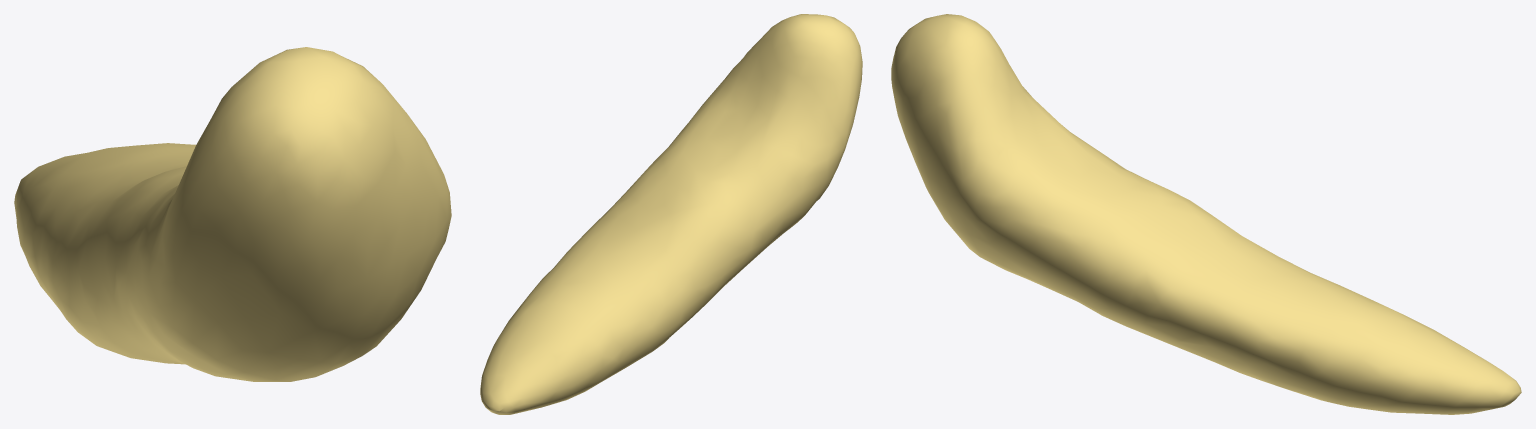
The model's file is fma73476_mm3565.glb.
The picture shows the model from 3 angles, left to right: view 1: azimuth 30°, elevation 25°; view 2: azimuth 150°, elevation 25°; view 3: azimuth 270°, elevation 25°; orthographic projection. The views are drawn at different scales.
Visible parts, largest first — view 1: FMA73476_MM3565; view 2: FMA73476_MM3565; view 3: FMA73476_MM3565.
Boxes of the visible parts, left/top/right/bottom form: FMA73476_MM3565: left=14, top=47, right=451, bottom=381; FMA73476_MM3565: left=480, top=14, right=862, bottom=414; FMA73476_MM3565: left=891, top=14, right=1521, bottom=414.
Bounding box in the file's own units: 0.00174 × 0.00239 × 0.00405.
